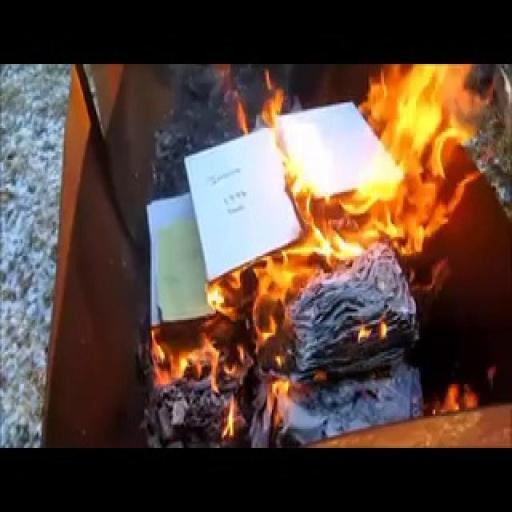smoke: (214, 65, 476, 302), (146, 302, 256, 404)
